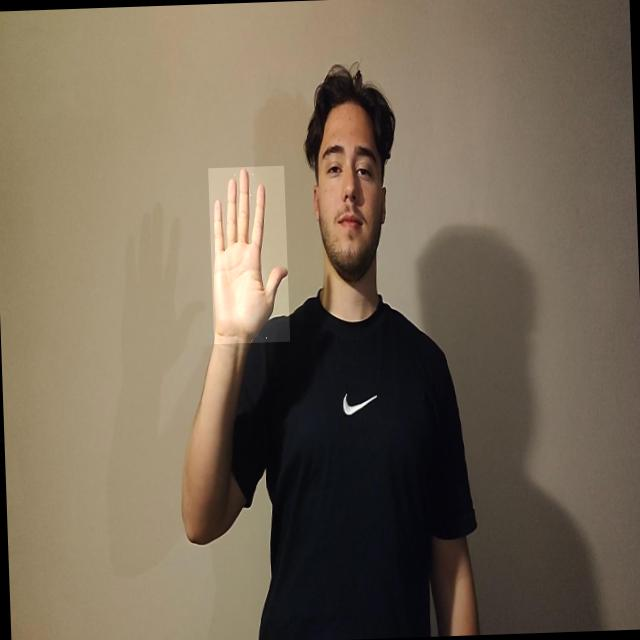hello: (208, 165, 290, 344)
